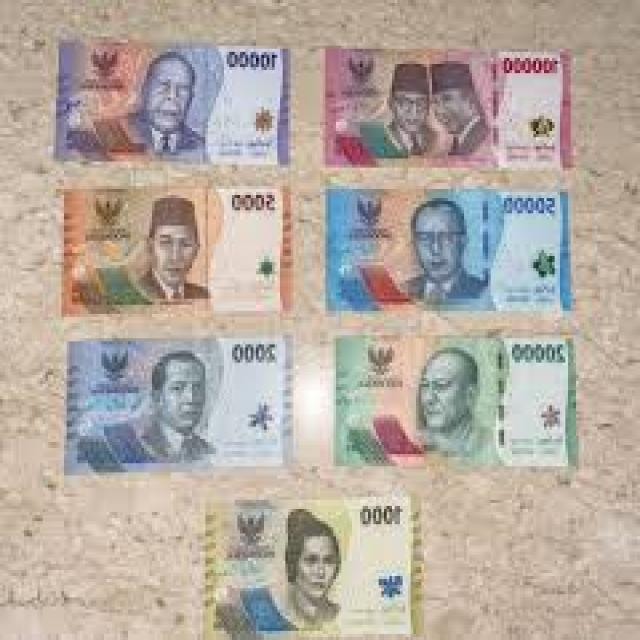dua puluh ribu rupiah: (336, 335, 571, 463)
dua ribu rupiah: (69, 338, 285, 466)
lima puluh ribu rupiah: (328, 189, 568, 311)
lima ribu rupiah: (69, 189, 280, 308)
sepuluh ribu rupiah: (59, 43, 288, 162)
seratus ribu rupiah: (328, 49, 571, 162)
seribu rupiah: (199, 498, 422, 640)
